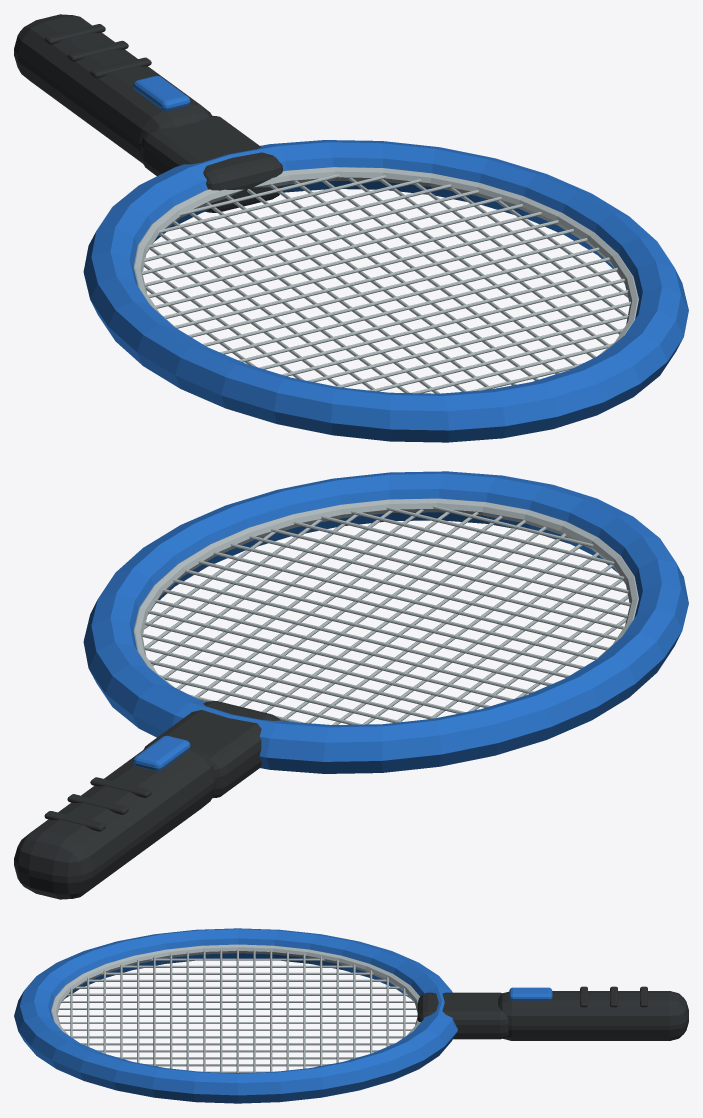
The model's file is Zapper.fbx.
The picture shows the model from 3 angles, top to bottom: view 1: azimuth 30°, elevation 25°; view 2: azimuth 150°, elevation 25°; view 3: azimuth 270°, elevation 25°; orthographic projection. The views are drawn at different scales.
Visible parts, largest first — view 1: Blue oval outer frame, Ergonomic grip, Inner metal frame, Racket neck, Mesh transverse.009, Mesh transverse.010, Mesh transverse.011, Mesh transverse.008, Mesh transverse.012, Mesh transverse.007, Mesh transverse.013, Mesh transverse.006 (+27 smaller); view 2: Blue oval outer frame, Ergonomic grip, Inner metal frame, Racket neck, Mesh transverse.010, Mesh transverse.011, Mesh transverse.009, Mesh transverse.012, Mesh transverse.008, Mesh transverse.013, Mesh transverse.007, Mesh transverse.014 (+27 smaller); view 3: Blue oval outer frame, Ergonomic grip, Inner metal frame, Racket neck, Mesh longitudinal.011, Mesh longitudinal.005, Mesh longitudinal.012, Mesh longitudinal.004, Mesh longitudinal.013, Mesh longitudinal.003, Mesh longitudinal.014, Mesh longitudinal.008 (+22 smaller).
Part boxes in pixels (x1=…): Blue oval outer frame: x1=83, y1=140, x2=688, y2=442; Ergonomic grip: x1=14, y1=14, x2=211, y2=163; Inner metal frame: x1=133, y1=167, x2=638, y2=355; Racket neck: x1=141, y1=115, x2=283, y2=212; Mesh transverse.009: x1=174, y1=229, x2=573, y2=328; Mesh transverse.010: x1=188, y1=238, x2=587, y2=337; Mesh transverse.011: x1=203, y1=247, x2=599, y2=346; Mesh transverse.008: x1=163, y1=220, x2=558, y2=318; Mesh transverse.012: x1=220, y1=257, x2=609, y2=354; Mesh transverse.007: x1=155, y1=212, x2=541, y2=308; Mesh transverse.013: x1=238, y1=267, x2=617, y2=362; Mesh transverse.006: x1=148, y1=204, x2=522, y2=297; Blue oval outer frame: x1=83, y1=471, x2=688, y2=773; Ergonomic grip: x1=14, y1=743, x2=215, y2=899; Inner metal frame: x1=133, y1=498, x2=638, y2=687; Racket neck: x1=143, y1=701, x2=280, y2=798; Mesh transverse.010: x1=185, y1=569, x2=584, y2=668; Mesh transverse.011: x1=198, y1=560, x2=597, y2=659; Mesh transverse.009: x1=173, y1=579, x2=569, y2=677; Mesh transverse.012: x1=213, y1=551, x2=608, y2=650; Mesh transverse.008: x1=162, y1=589, x2=552, y2=685; Mesh transverse.013: x1=230, y1=543, x2=616, y2=639; Mesh transverse.007: x1=155, y1=599, x2=533, y2=693; Mesh transverse.014: x1=249, y1=535, x2=624, y2=629; Blue oval outer frame: x1=14, y1=928, x2=457, y2=1103; Ergonomic grip: x1=498, y1=991, x2=688, y2=1040; Inner metal frame: x1=51, y1=944, x2=420, y2=1035; Racket neck: x1=417, y1=992, x2=508, y2=1039; Mesh longitudinal.011: x1=67, y1=993, x2=408, y2=995; Mesh longitudinal.005: x1=70, y1=1036, x2=403, y2=1038; Mesh longitudinal.012: x1=75, y1=986, x2=400, y2=988; Mesh longitudinal.004: x1=80, y1=1043, x2=395, y2=1045; Mesh longitudinal.013: x1=86, y1=979, x2=389, y2=981; Mesh longitudinal.003: x1=96, y1=1050, x2=379, y2=1052; Mesh longitudinal.014: x1=101, y1=972, x2=374, y2=974; Mesh longitudinal.008: x1=58, y1=1015, x2=417, y2=1016.
Bounding box in the file's own units: 113 × 14.85 × 203.
